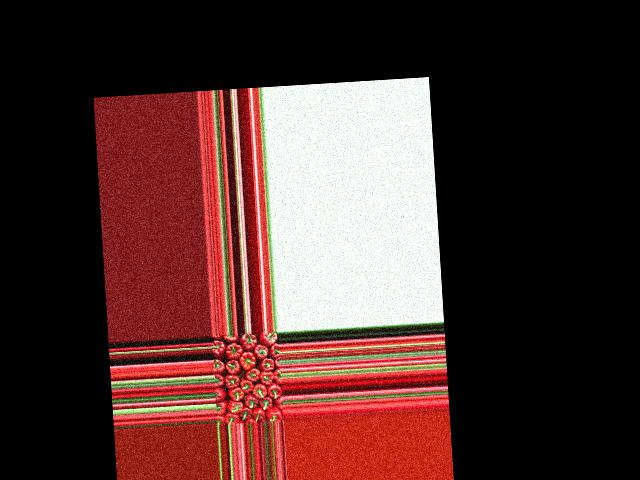bell_pepper: (267, 406, 282, 421)
